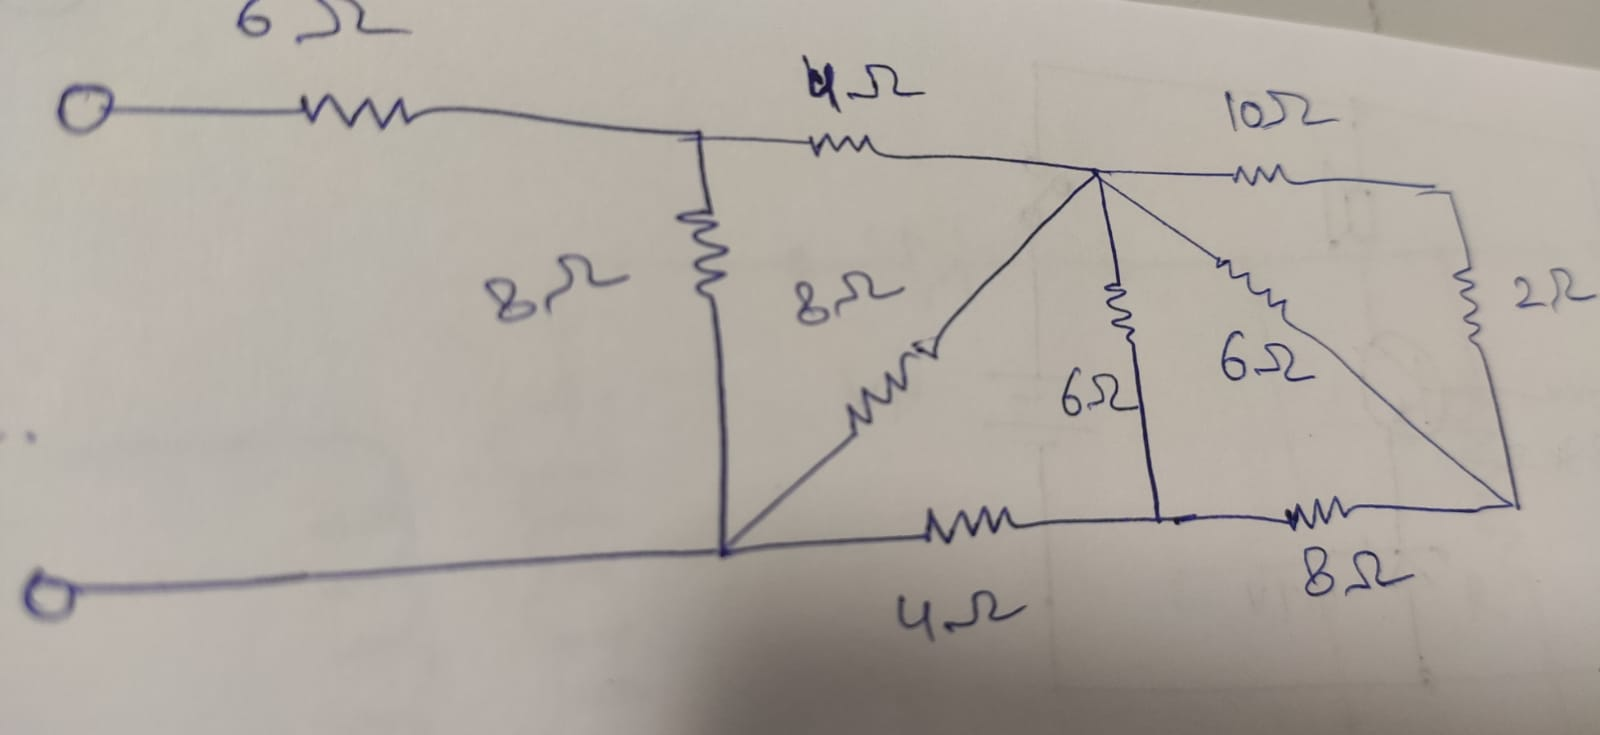junction: (1143, 505, 1180, 532), (710, 536, 737, 567), (685, 124, 712, 151), (1085, 162, 1111, 189), (1505, 497, 1528, 517), (1439, 183, 1459, 202)
resistor: (842, 337, 941, 439), (278, 77, 435, 137), (1213, 252, 1296, 326), (670, 203, 731, 301), (917, 502, 1020, 543), (1277, 491, 1352, 532), (1097, 276, 1140, 347), (1451, 262, 1485, 346), (802, 129, 879, 160), (1229, 159, 1294, 189)
terminal: (51, 77, 119, 139), (17, 561, 85, 623)
text: (477, 247, 633, 326), (800, 50, 928, 115), (231, 2, 414, 45), (895, 584, 1028, 639), (793, 264, 907, 325), (1299, 543, 1416, 597), (1221, 85, 1341, 136), (1220, 328, 1318, 388), (1057, 362, 1138, 422), (1512, 264, 1600, 316)
